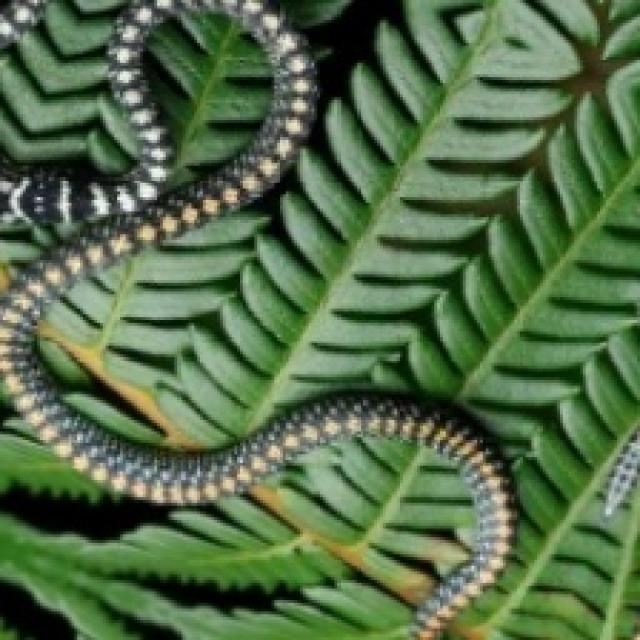paradise tree snake: (37, 0, 637, 637), (37, 3, 557, 449), (0, 437, 506, 637), (0, 440, 466, 637), (3, 0, 134, 166), (146, 17, 269, 183)
